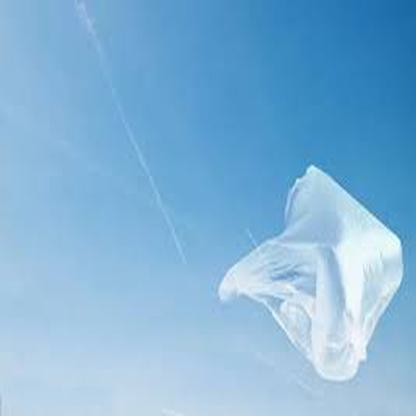plastic bag: (218, 164, 403, 381)
